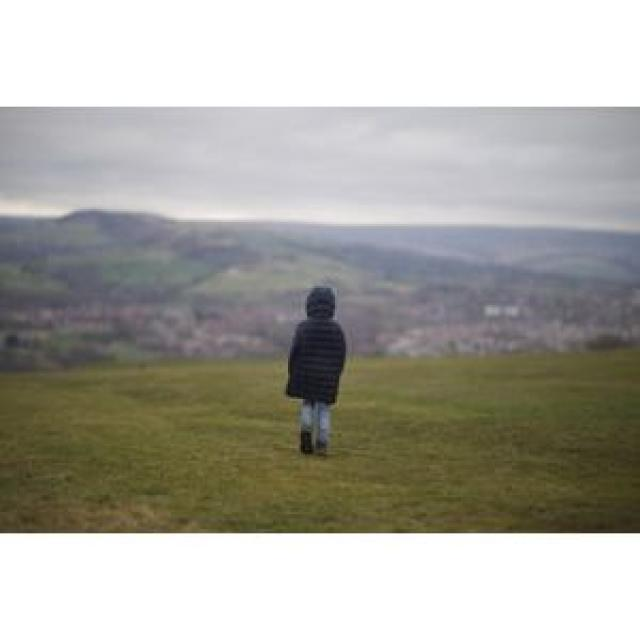nonfall: (278, 278, 370, 461)
